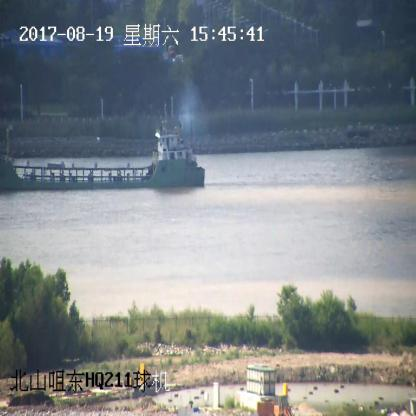Bulk Carrier: (0, 107, 206, 189)
